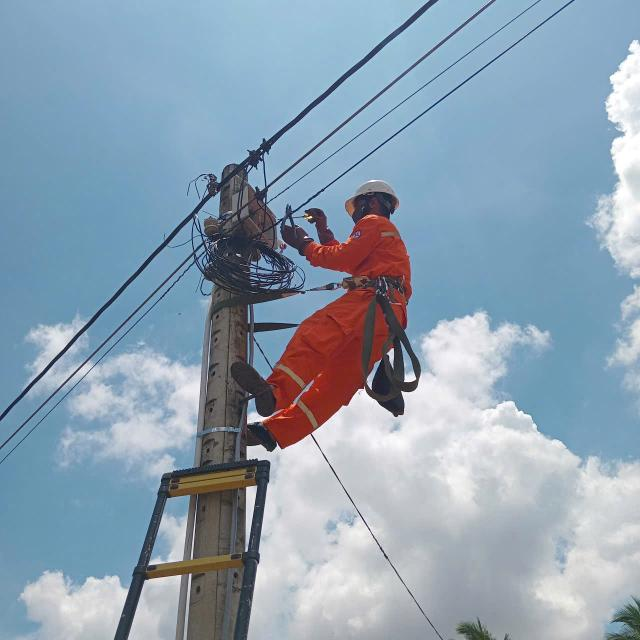gloves: (264, 218, 319, 264), (302, 196, 337, 243)
harness: (321, 272, 433, 318)
helmet: (339, 162, 411, 218)
shoes: (222, 358, 284, 419), (228, 422, 292, 453)
